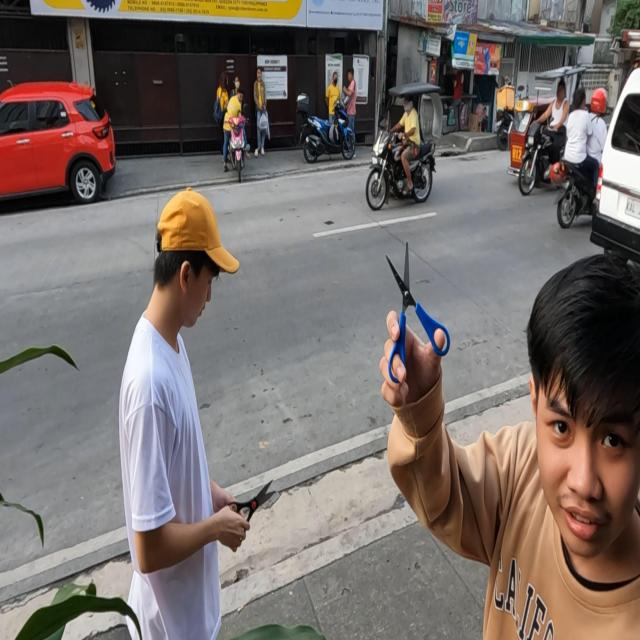scissor: (386, 241, 451, 384), (228, 480, 275, 532)
